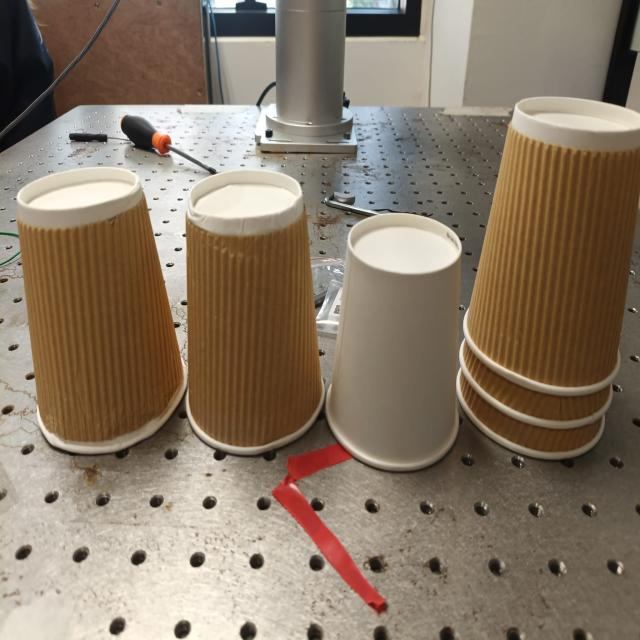Browncup: (463, 97, 640, 397), (17, 166, 187, 453), (186, 169, 324, 454), (465, 342, 610, 422), (462, 385, 602, 452)
Whitecup: (325, 213, 462, 471)
